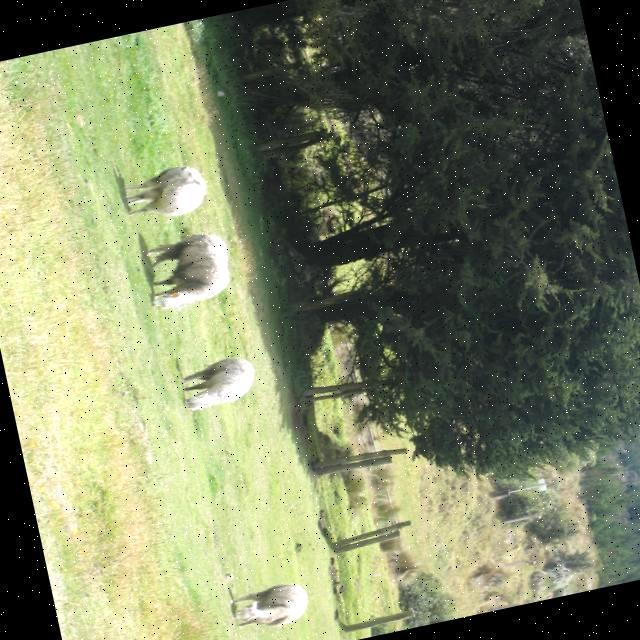sheep: (148, 234, 229, 309), (126, 166, 206, 216), (182, 359, 253, 410), (234, 584, 306, 626)
